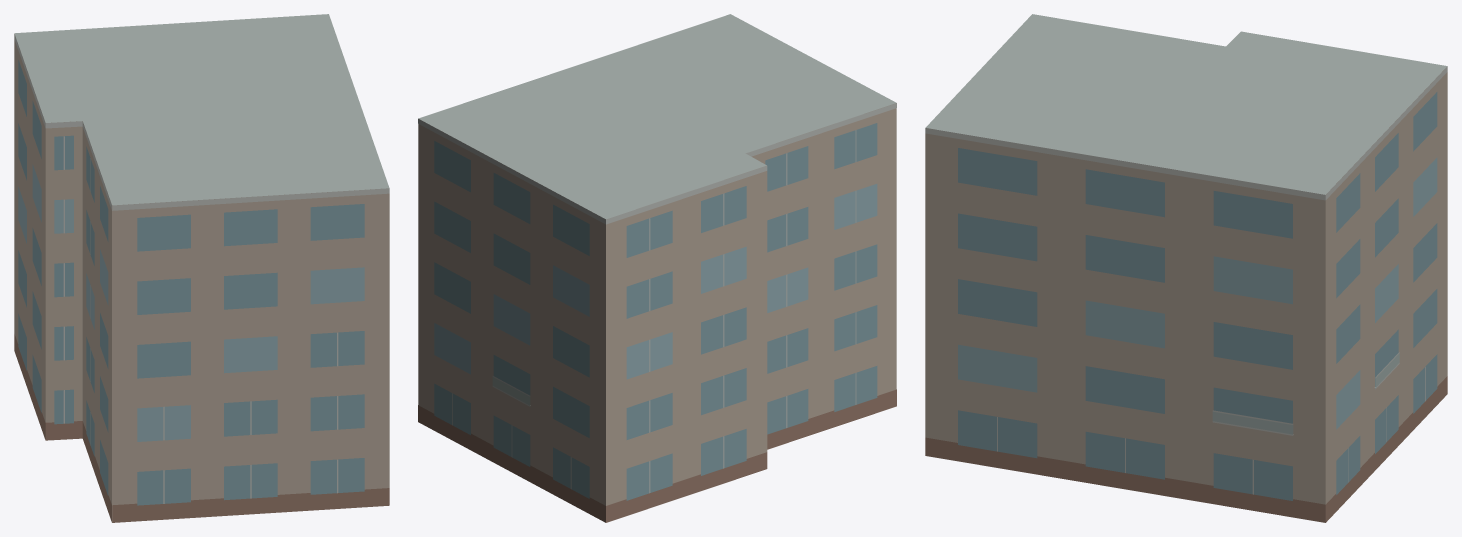
File: survey-upis-33040869.glb
3 views of the same model, side by side, from view 1: azimuth 30°, elevation 25°; view 2: azimuth 150°, elevation 25°; view 3: azimuth 270°, elevation 25° (orthographic). The views are drawn at different scales.
Parts seen in each view (by area): view 1: survey-upis-33040869.tmp; view 2: survey-upis-33040869.tmp; view 3: survey-upis-33040869.tmp.
Boxes of the visible parts, box(x1,y1,x2,y2) form: survey-upis-33040869.tmp: box(14, 14, 389, 522); survey-upis-33040869.tmp: box(418, 14, 896, 522); survey-upis-33040869.tmp: box(925, 14, 1447, 522).
Size of the model in its own units: 16.92 by 14.3 by 20.64.
